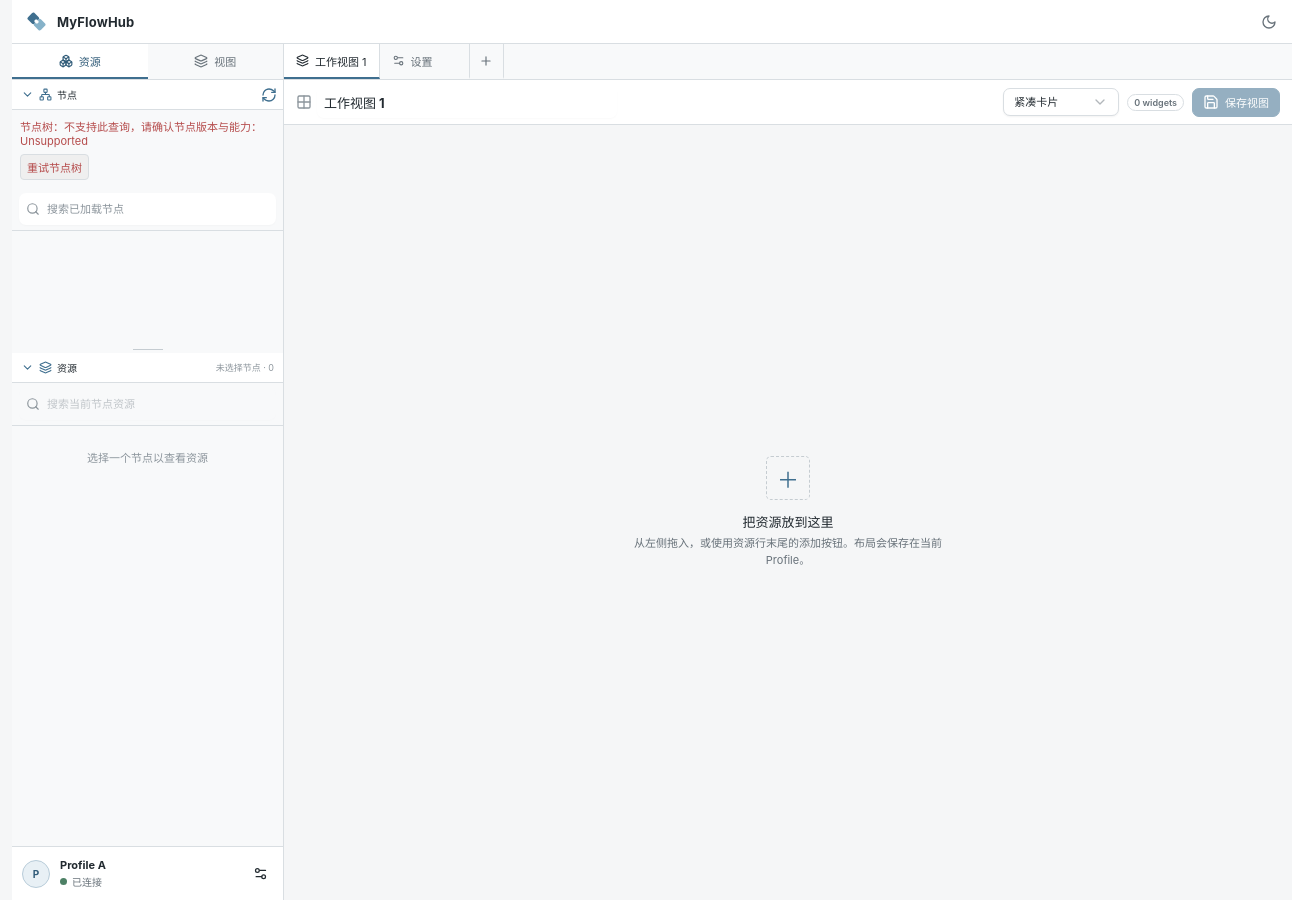
Scenario: desktop discovery integration › expresses unsupported and catalog errors, then shows empty only after successful retries
Check: the text "节点树：不支持此查询，请确认节点版本与能力：Unsupported" is shown, box [20,118,275,148]
Check: the text "此节点没有资源" is not shown
Click the button "重试节点树" at (54, 167), box [20,154,89,180]
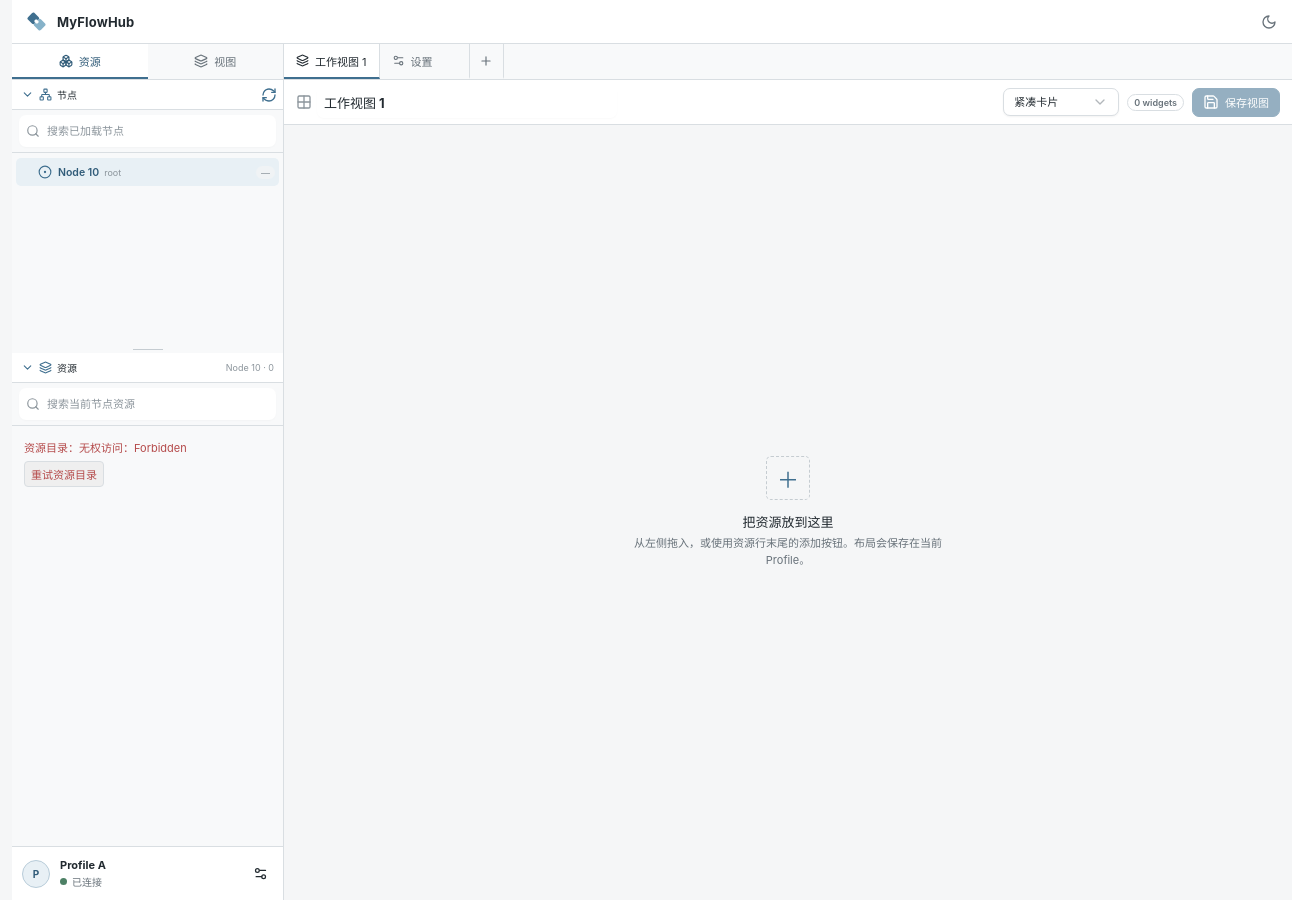
Check: the text "资源目录：无权访问：Forbidden" is shown, box [24,439,187,455]
Click the button "重试资源目录" at (64, 474), box [24,461,104,487]
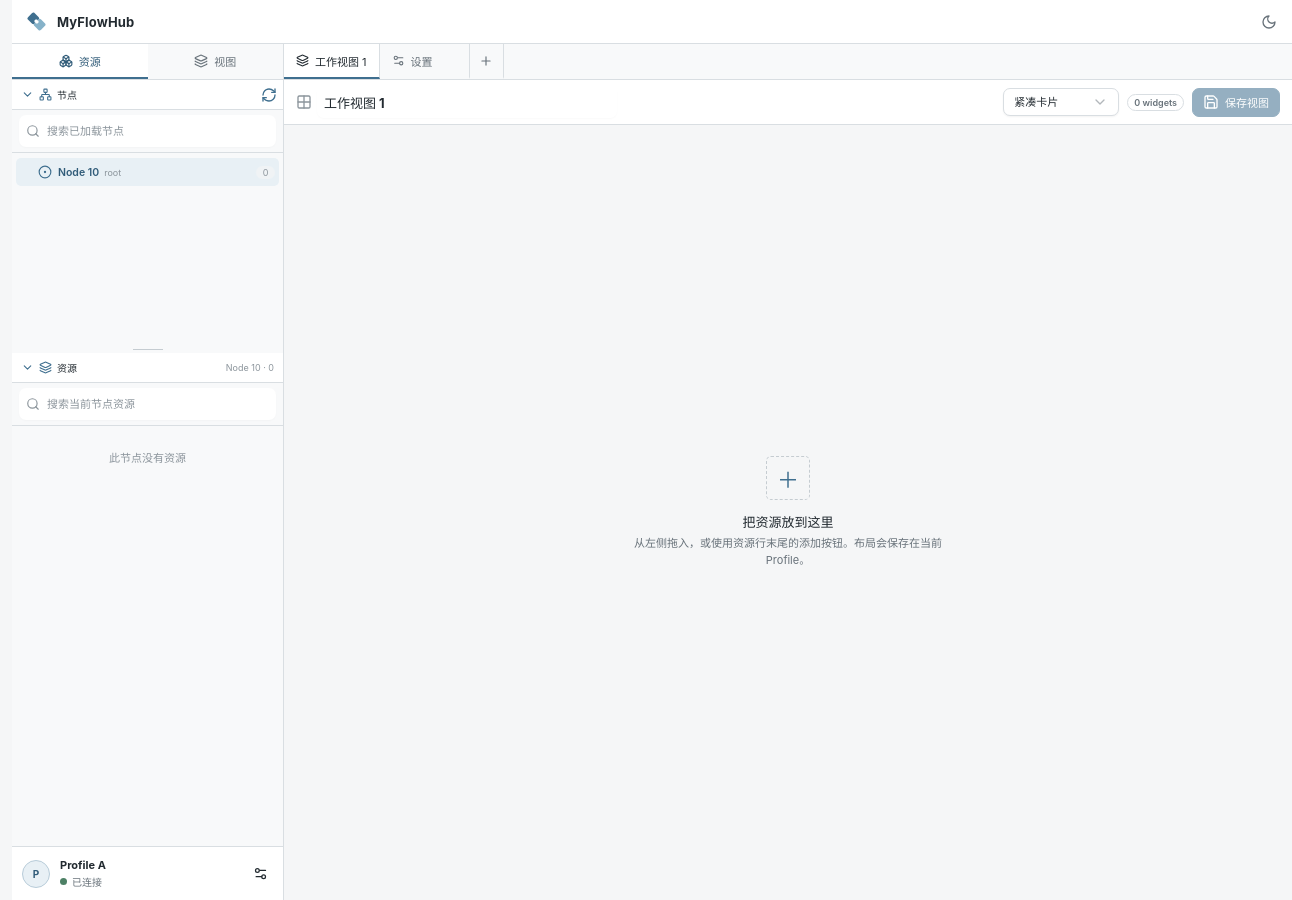
Check: the text "此节点没有资源" is shown, box [109,451,186,465]
